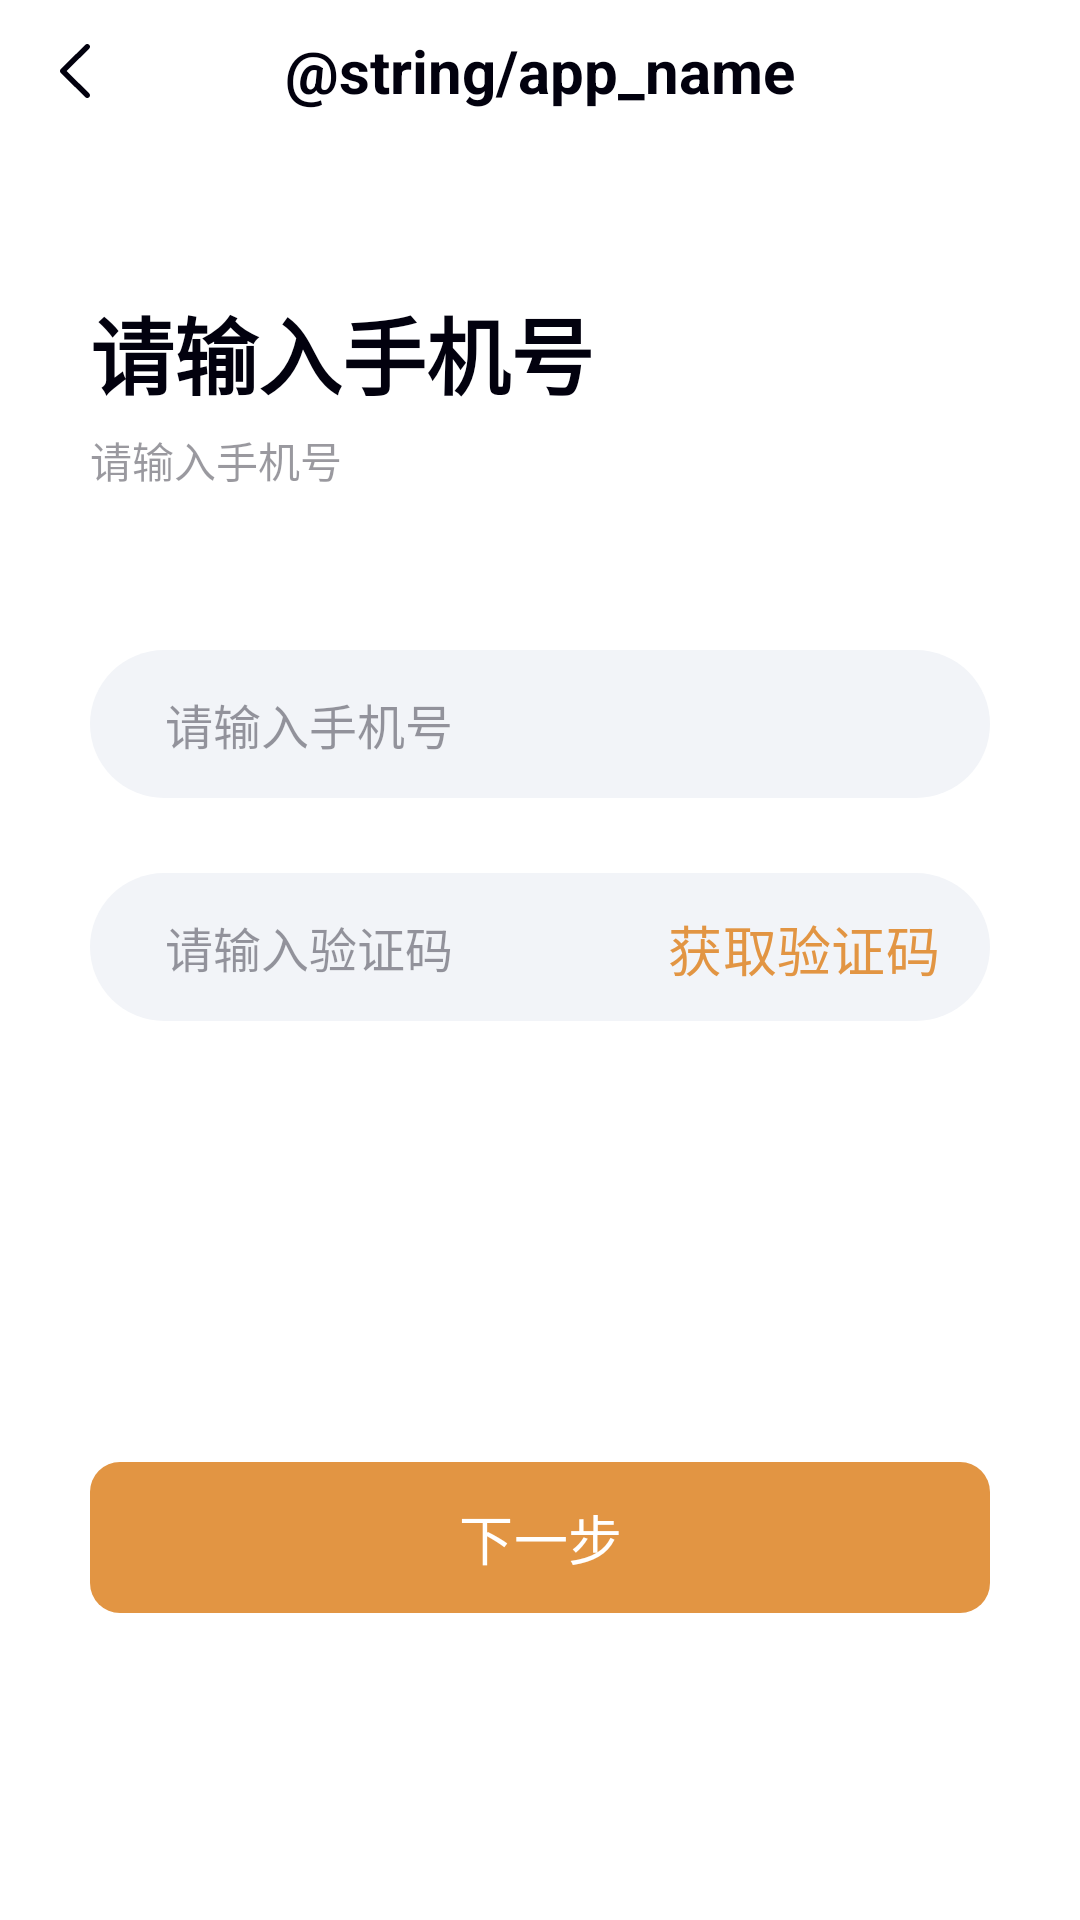

Where to tap for icons on this 1080x1920 app screen, as (x=x, y=y):
back: (x=75, y=71)
